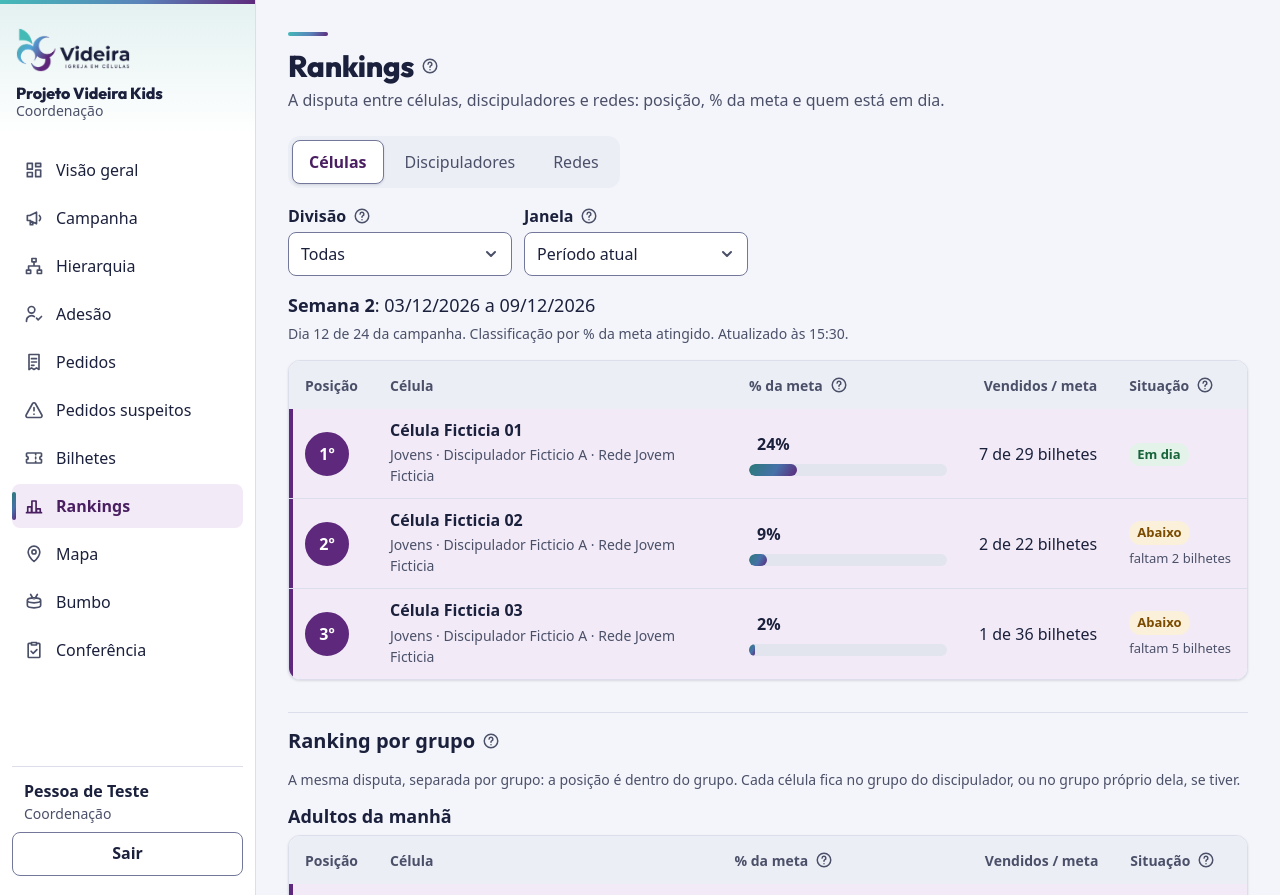
it: RIFA-085 (D39, adendo): o grupo próprio da célula › a descrição da seção: nas células, diz que a célula de grupo próprio fica no grupo dela; nos discipuladores, o grupo do discipulador
Click the tab "Discipuladores" at {"x": 460, "y": 162}, box 388,140 -> 532,184
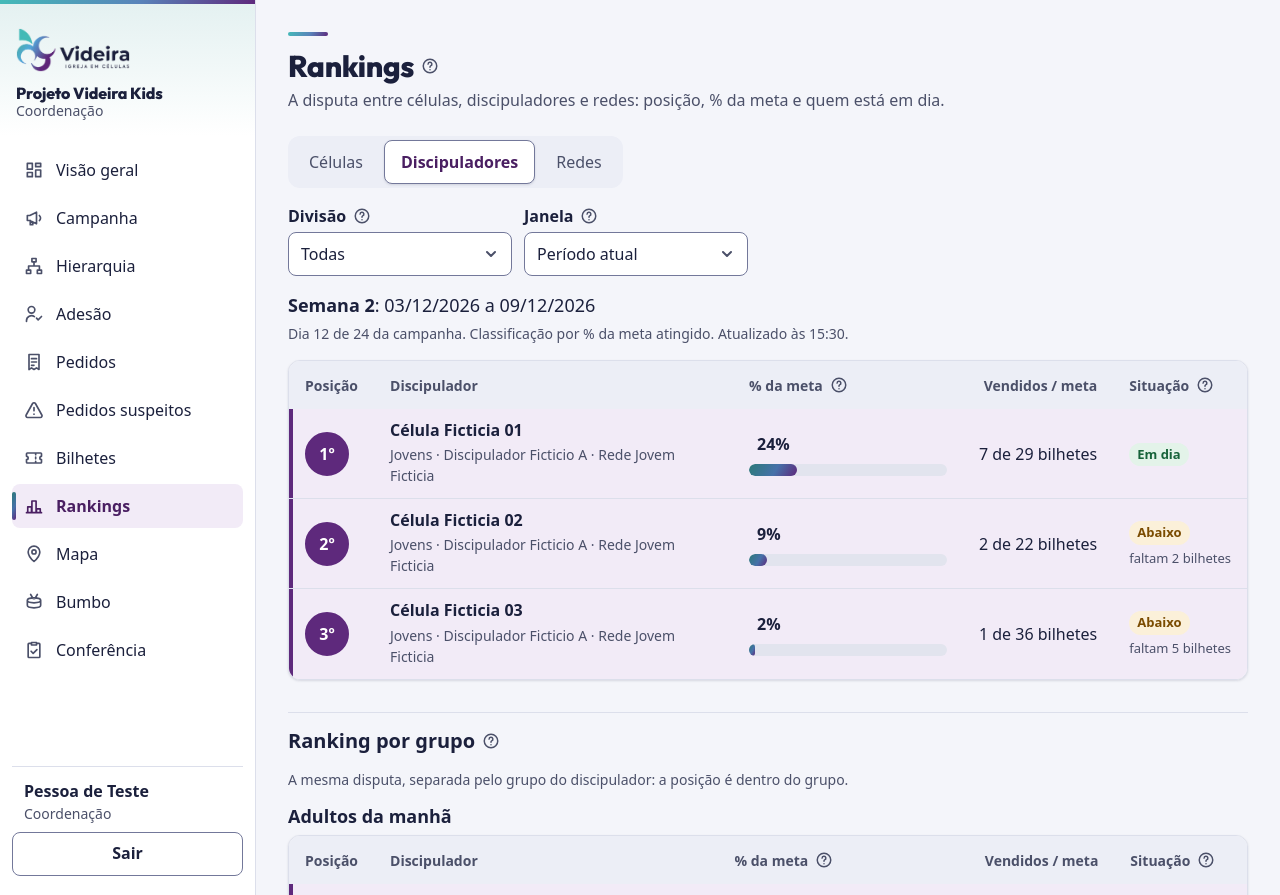
Check: the text with class "rankings-grupos__descricao" shows "A mesma disputa, separada pelo grupo do discipulador: a posição é dentro do grupo.", box 288,770 -> 848,789
